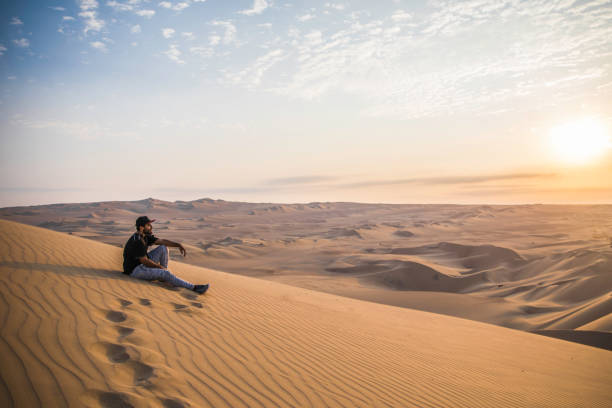human_footprint: (98, 310, 154, 387), (98, 391, 133, 407), (104, 343, 129, 362), (116, 326, 134, 340), (106, 310, 126, 322), (118, 299, 132, 307), (172, 303, 187, 310), (139, 298, 150, 305), (191, 302, 202, 308)
